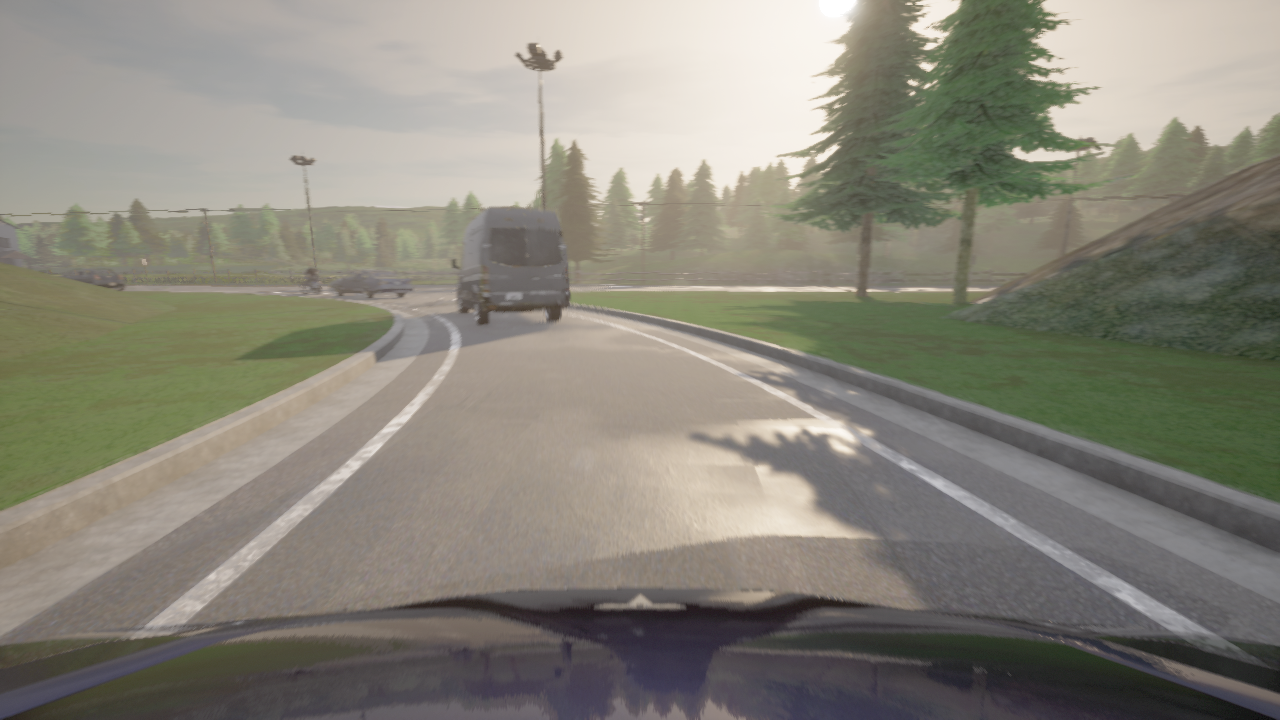cyclist: (0, 588, 1279, 719), (451, 207, 569, 325), (329, 269, 414, 298), (56, 268, 125, 291), (301, 275, 320, 294)
